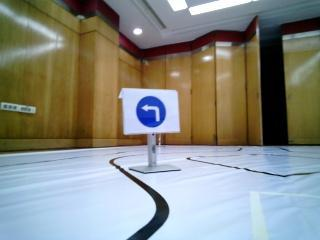left: (125, 93, 173, 129)
